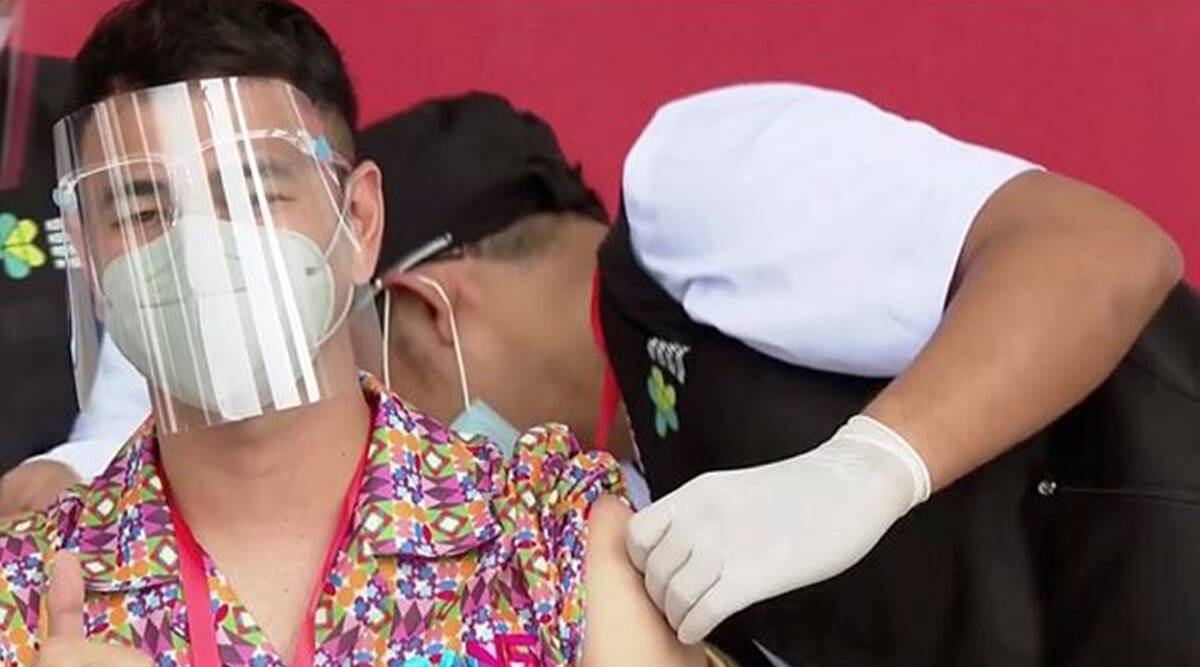Face_Shield: (51, 78, 357, 430)
Gloves: (623, 410, 934, 657)
with_mask: (100, 164, 330, 425)
